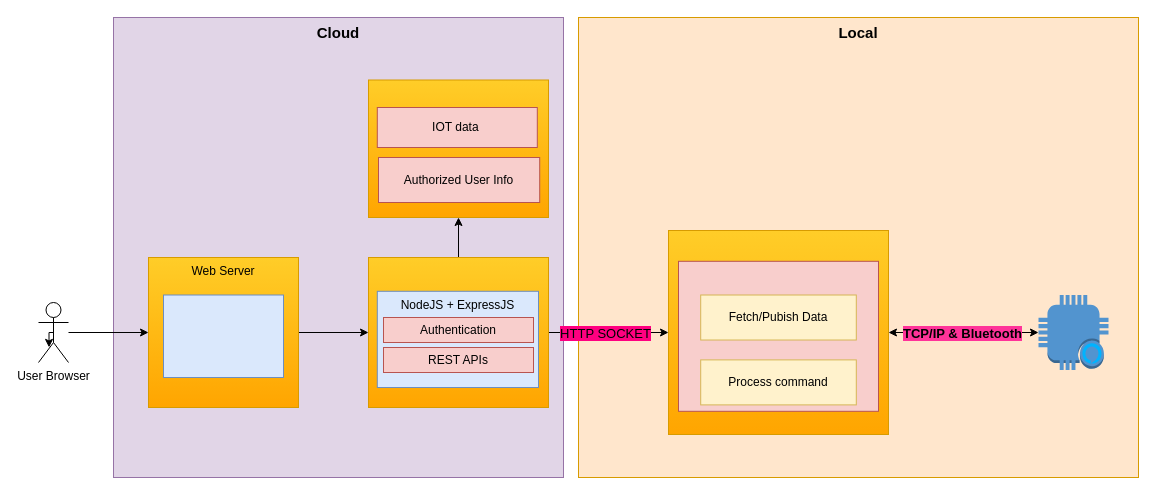
Image size: 1156x495. Some labels were removed from this diagram. The box of each missing label's shape, as (x1, y1, x2, y2) in pixels:
Backend Server: (368, 256, 548, 408)
Flask + Socket: (678, 260, 878, 411)
IOT device (Sensor etc): (1038, 294, 1108, 370)
MongoDB: (368, 79, 548, 218)
React: (162, 294, 284, 378)
Verifier: (668, 230, 888, 434)
